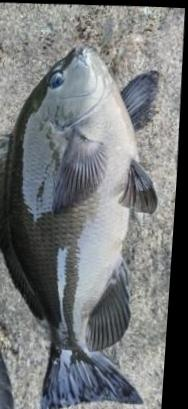fish: (0, 40, 161, 409)
